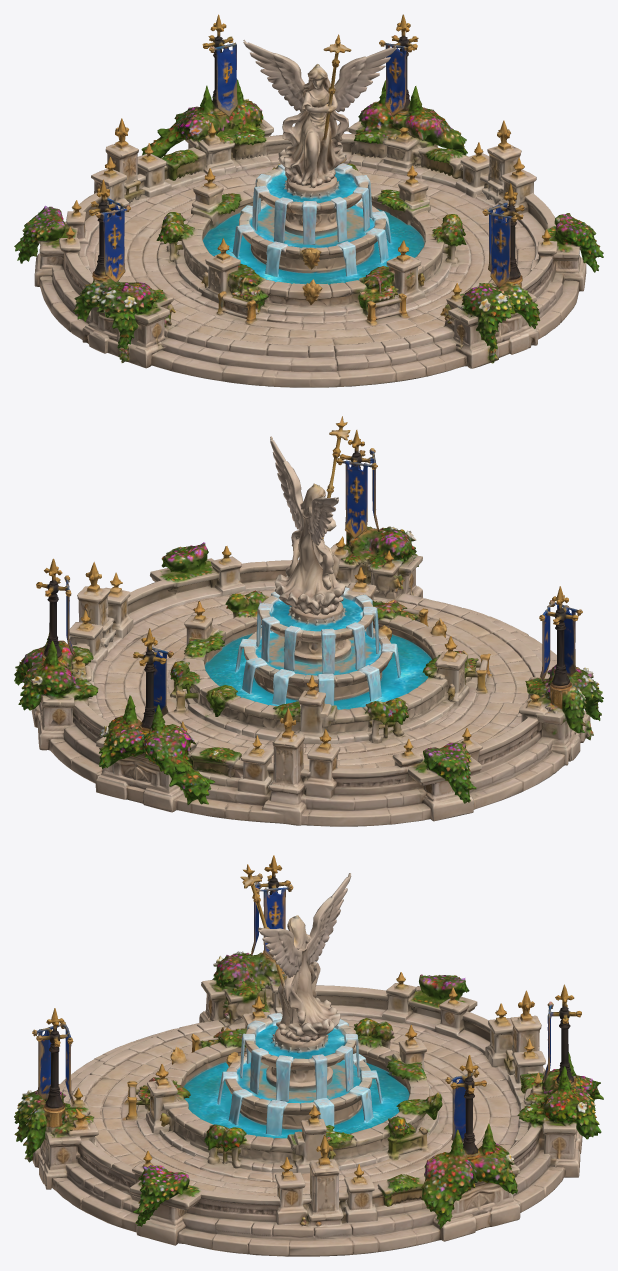
File: angel_fountain.glb
3 renders of one model, top to bottom at view 1: azimuth 30°, elevation 25°; view 2: azimuth 150°, elevation 25°; view 3: azimuth 270°, elevation 25°, orthographic. The views are drawn at different scales.
Bounding box in the file's own units: 0.9623 × 0.5034 × 0.9774.
Materials: 1 (1 with a texture image).
